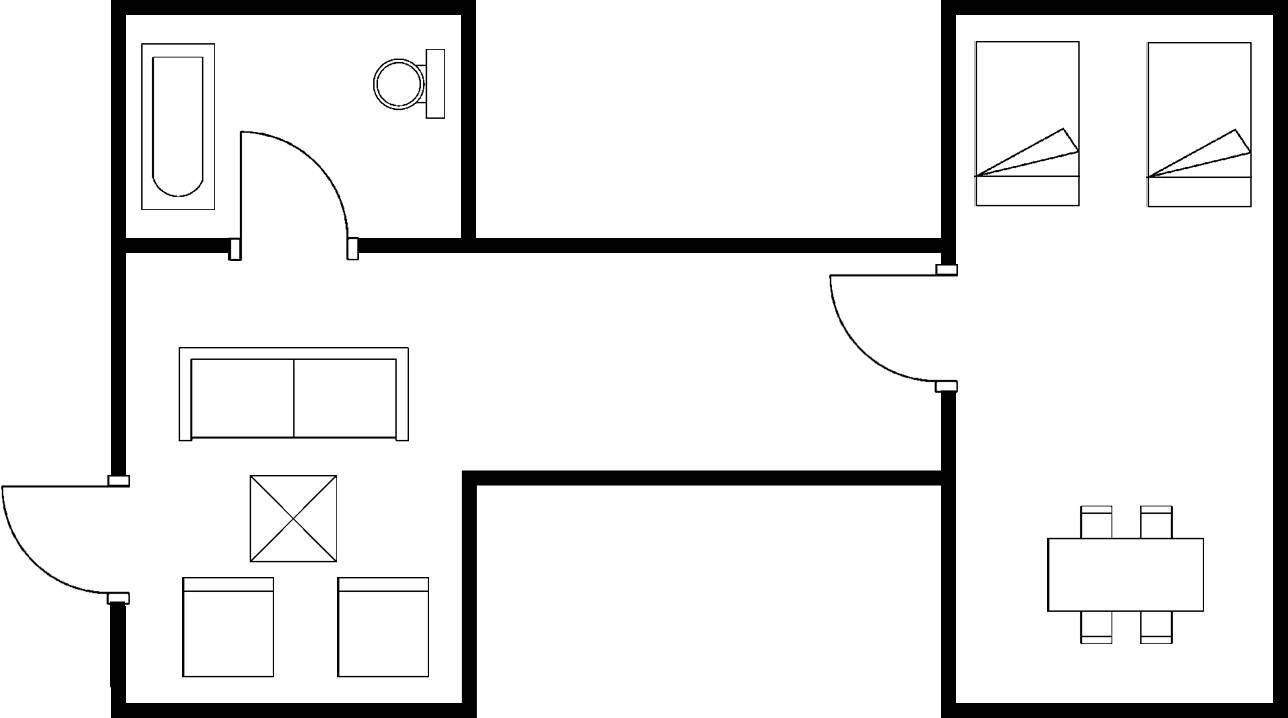bed: (1140, 36, 1256, 216), (970, 33, 1085, 212)
coffee_table: (245, 469, 343, 568)
dining_table: (1042, 499, 1210, 651)
large_sink: (367, 45, 450, 127)
large_sofa: (172, 341, 414, 447)
small_sofa: (176, 571, 278, 682), (334, 573, 434, 681)
tub: (135, 37, 223, 216)
